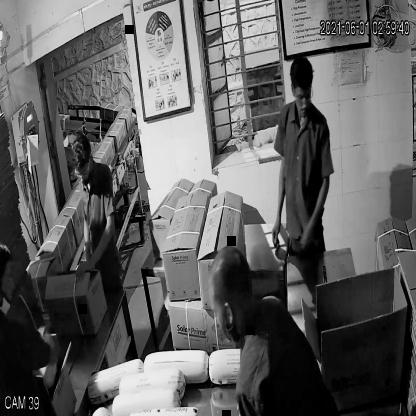goggles: (75, 157, 94, 182)
